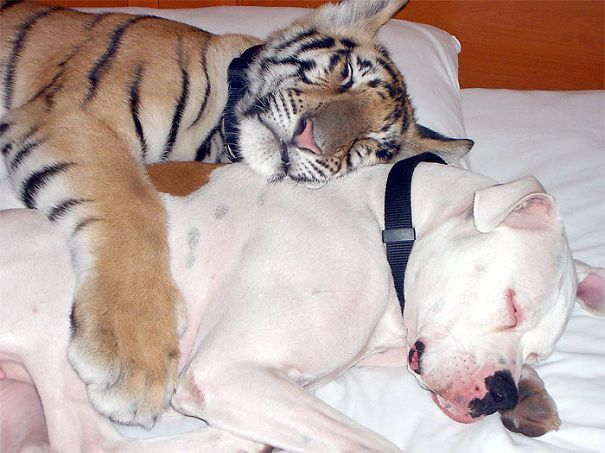dog: (1, 159, 597, 453)
tiger: (1, 3, 468, 423)
